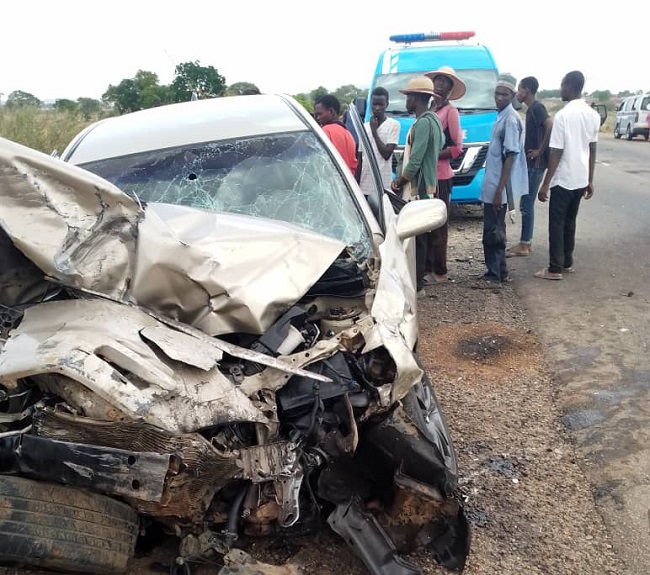car-crash: (2, 81, 477, 575)
